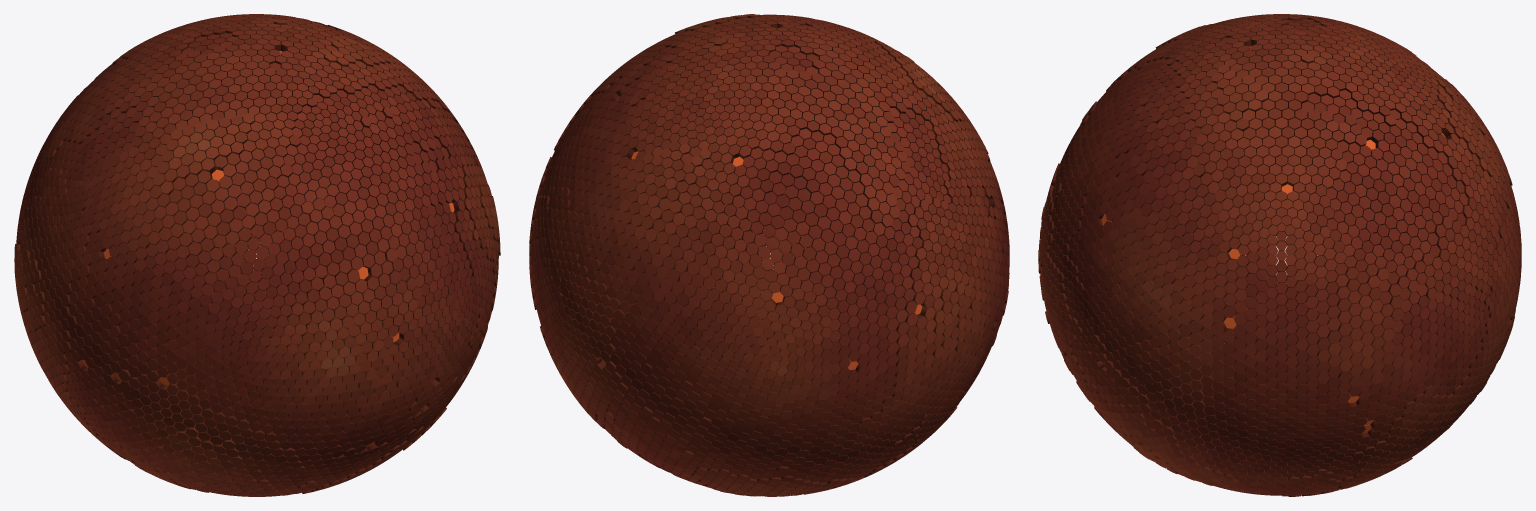
The model's file is ember_1.glb.
The picture shows the model from 3 angles, left to right: view 1: azimuth 30°, elevation 25°; view 2: azimuth 150°, elevation 25°; view 3: azimuth 270°, elevation 25°; orthographic projection.
Visible parts, largest first — view 1: ember_1; view 2: ember_1; view 3: ember_1.
Part boxes in pixels (x1,y1,x2,y2): ember_1: [14, 14, 500, 496]; ember_1: [529, 14, 1009, 496]; ember_1: [1038, 14, 1521, 496].
Bounding box in the file's own units: 2.06 × 2.06 × 2.06.
